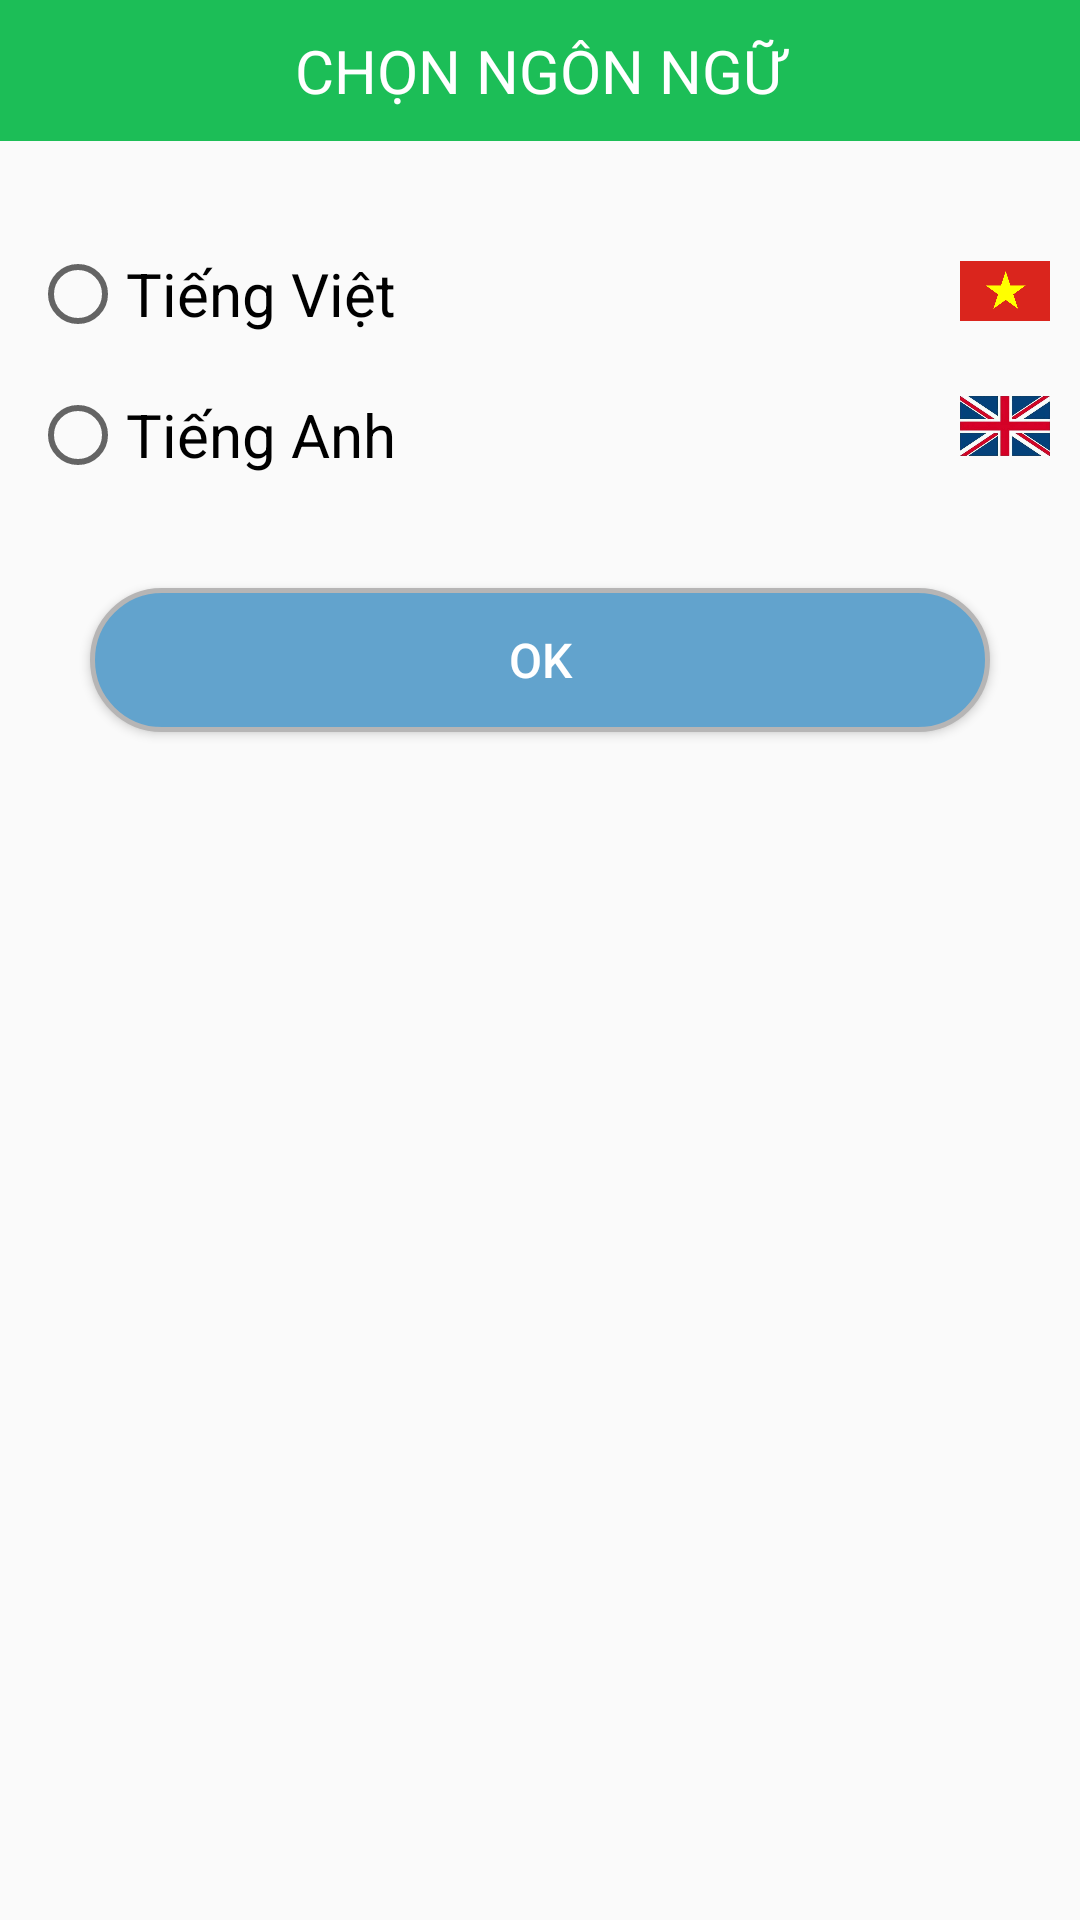

Where to tap for icons on this 1080w x 1920h app screen, as point (x, y):
english: point (1005, 426)
vietnam: point (1005, 291)
